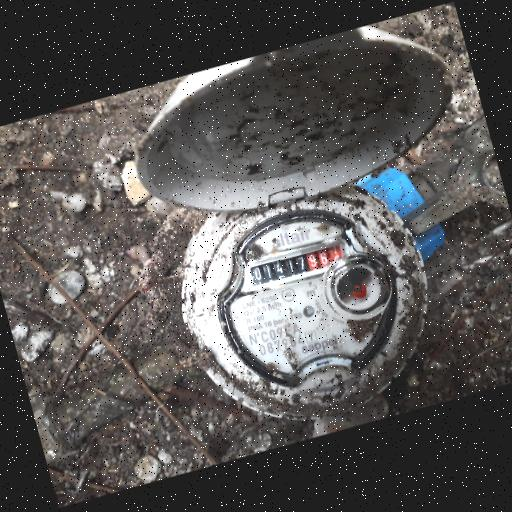0: (250, 265, 266, 285)
1: (260, 261, 276, 282), (283, 256, 299, 276)
4: (271, 257, 288, 279)
6: (316, 247, 332, 267)
7: (326, 243, 343, 263), (294, 253, 310, 273)
9: (305, 250, 320, 270)
border_water_meter_number: (233, 235, 350, 296)
